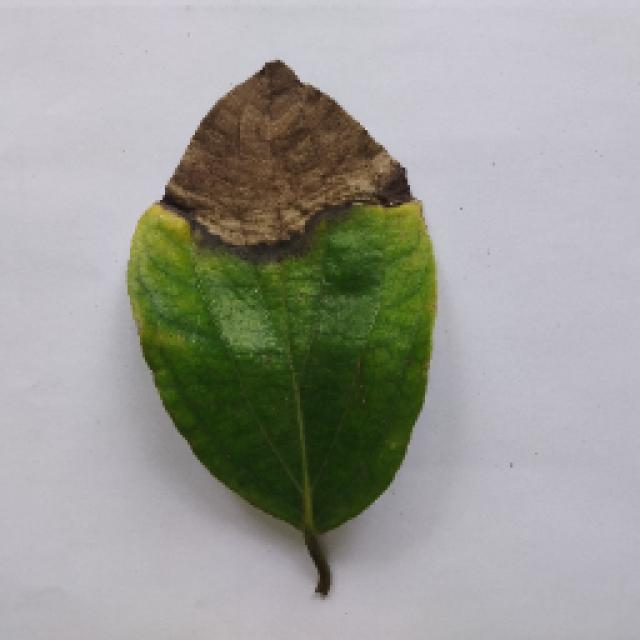footrot: (122, 60, 440, 585)
